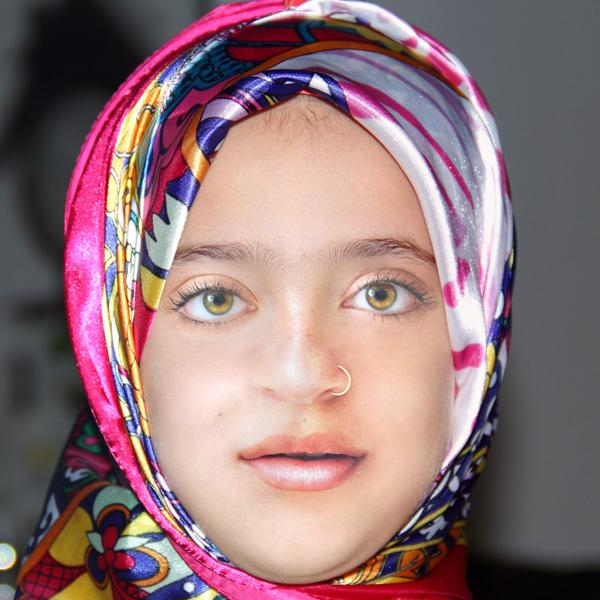Eyes: (331, 262, 440, 331), (164, 269, 264, 340)
